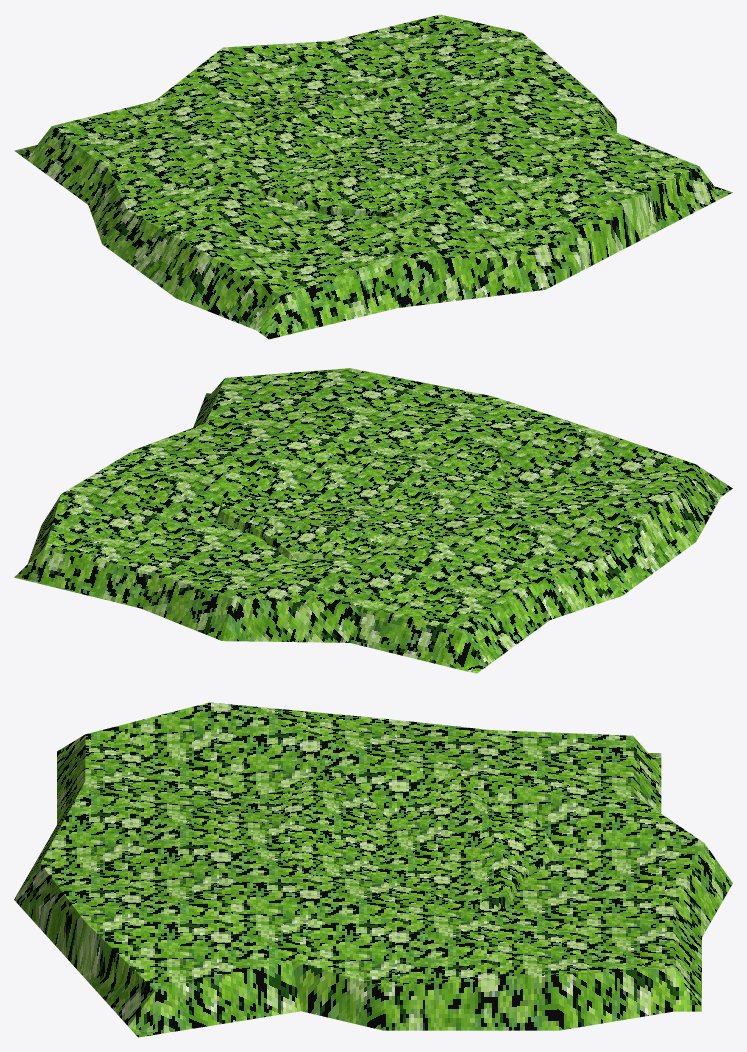
Rendered from Clover Patch.fbx.
3 renders of one model, top to bottom at view 1: azimuth 30°, elevation 25°; view 2: azimuth 150°, elevation 25°; view 3: azimuth 270°, elevation 25°, orthographic. The views are drawn at different scales.
Visible parts, largest first — view 1: Clover Patch 1, Clover Patch 2; view 2: Clover Patch 1, Clover Patch 2; view 3: Clover Patch 1, Clover Patch 2.
Part boxes in pixels (x1,y1,x2,y2): Clover Patch 1: (14, 14, 732, 339); Clover Patch 2: (202, 83, 461, 216); Clover Patch 1: (14, 368, 732, 673); Clover Patch 2: (216, 443, 513, 560); Clover Patch 1: (14, 702, 732, 1037); Clover Patch 2: (187, 760, 559, 909).
Bounding box in the file's own units: 2.05 × 0.1526 × 2.06.
1 material, 1 textured.
